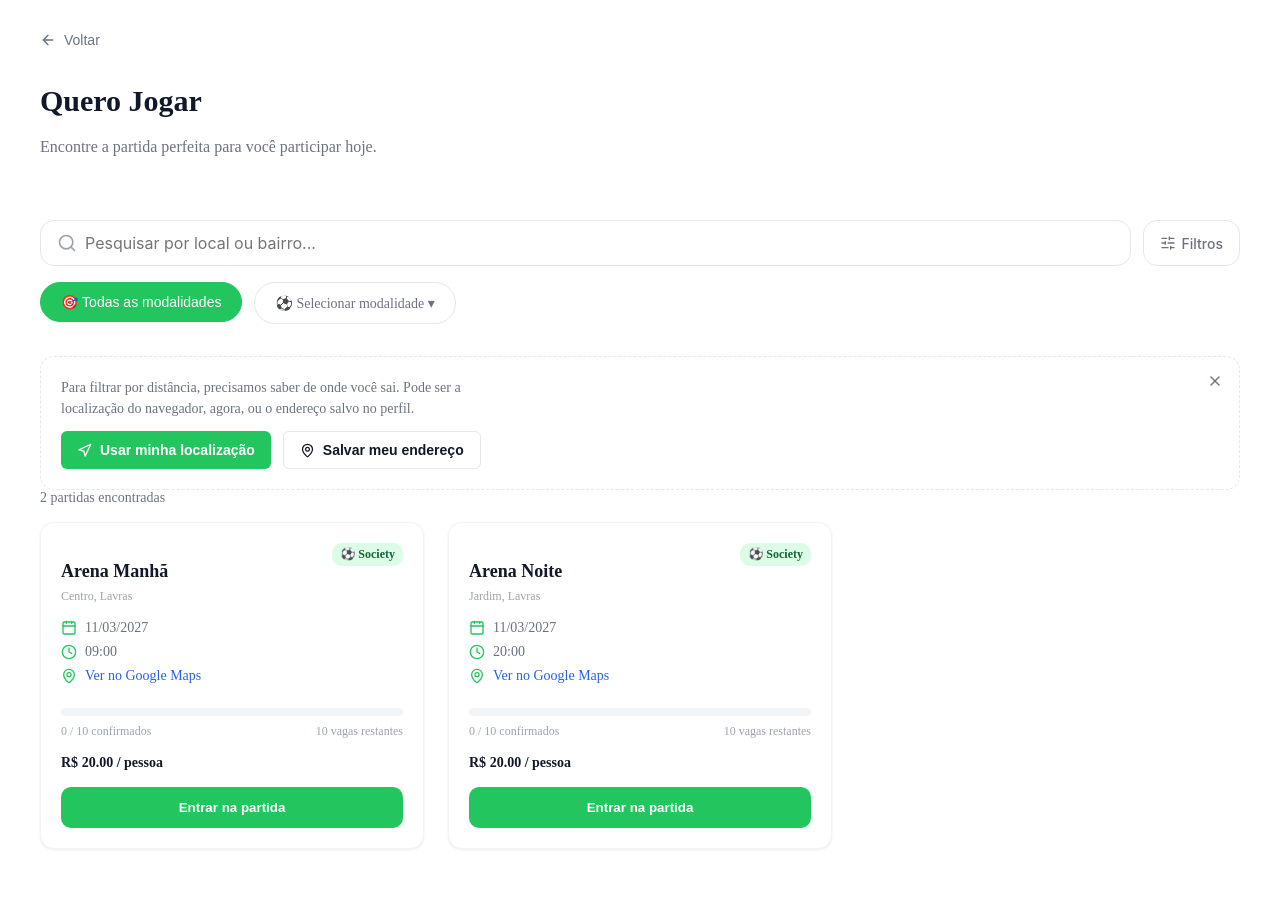
Test: QueroJogar — filtros aplicados sobre o que já veio › o filtro de horário recorta a lista sem ir à API de novo
The width and height of the screenshot is (1280, 899).
Check: the heading "Arena Manhã" is shown, box [61, 561, 168, 582]
Check: the heading "Arena Noite" is shown, box [469, 561, 562, 582]
Click the button "Filtros".
click(1191, 243)  # box [1143, 220, 1240, 266]
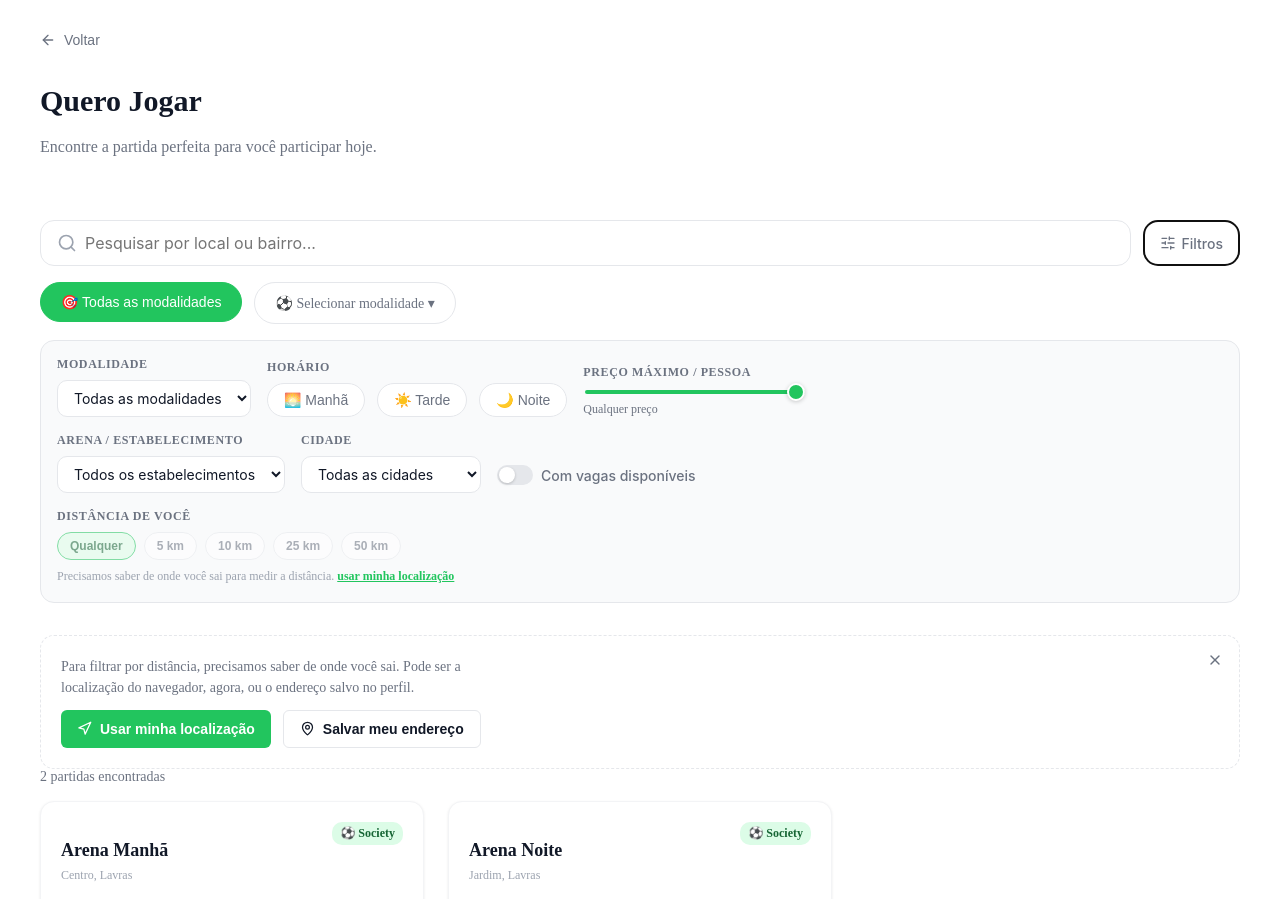
Click the button "🌙 Noite".
click(523, 400)  # box [479, 383, 567, 417]
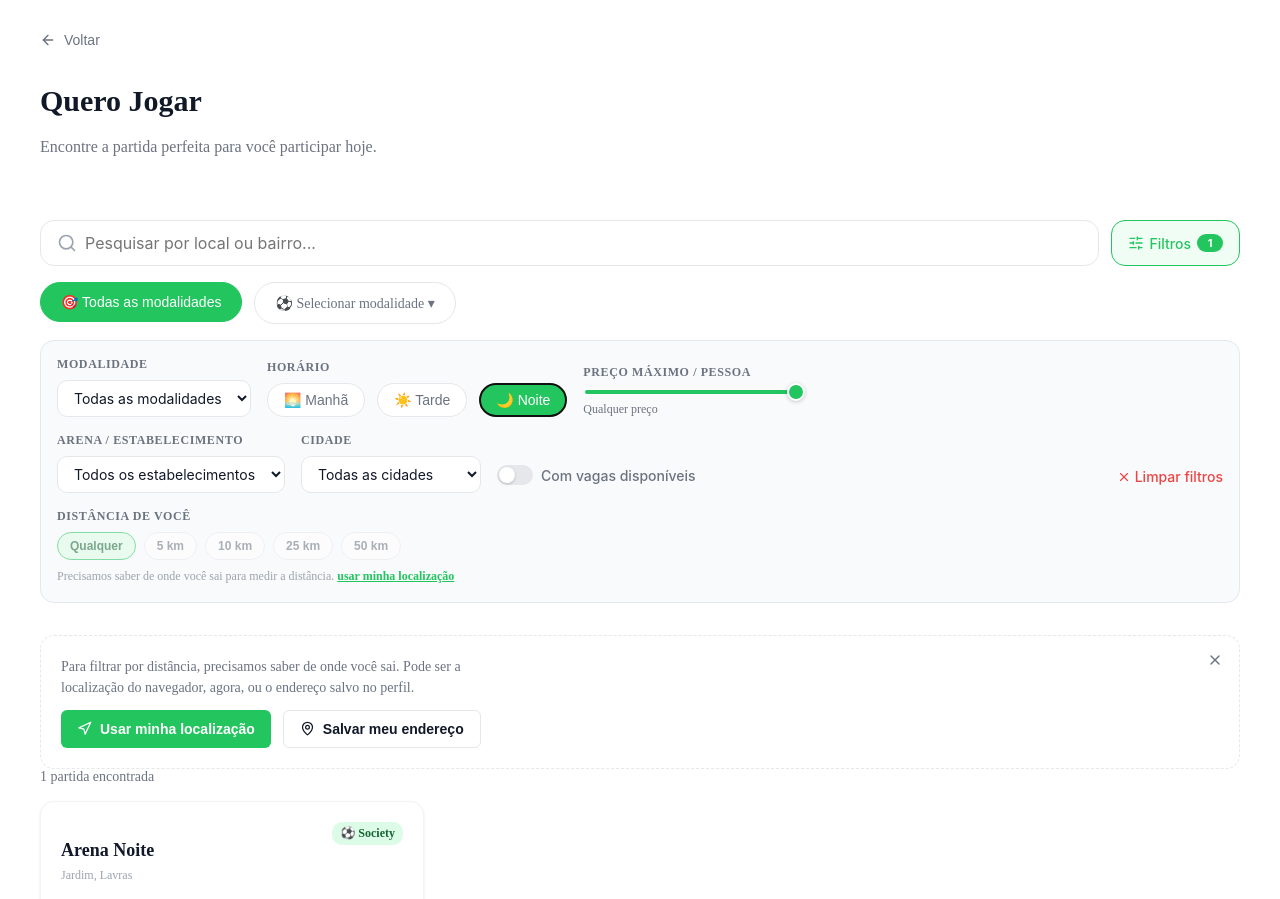
Check: the heading "Arena Noite" is shown, box [61, 840, 154, 861]
Check: the heading "Arena Manhã" is gone
Check: the text "1 partida encontrada" is shown, box [40, 769, 154, 784]
